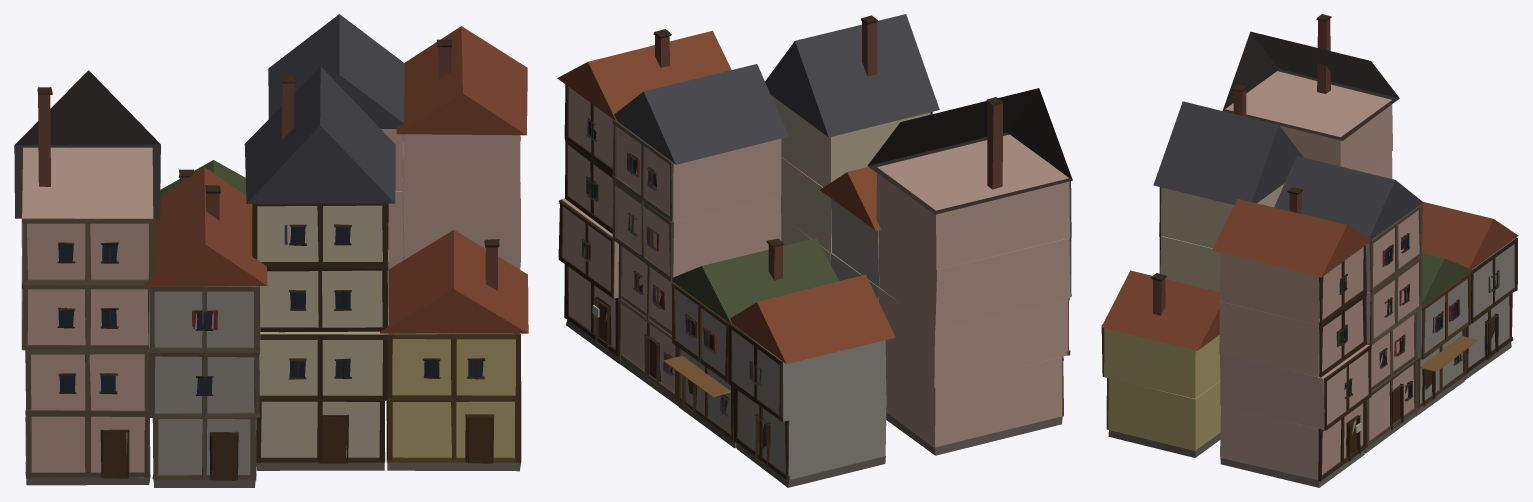
Rendered from modular_house_blocks_one.glb.
The picture shows the model from 3 angles, left to right: view 1: azimuth 30°, elevation 25°; view 2: azimuth 150°, elevation 25°; view 3: azimuth 270°, elevation 25°; orthographic projection. The views are drawn at different scales.
Parts seen in each view (by area): view 1: CityBlock_Var03; view 2: CityBlock_Var03; view 3: CityBlock_Var03.
Boxes of the visible parts, x1=… form: CityBlock_Var03: x1=14, y1=14, x2=528, y2=487; CityBlock_Var03: x1=557, y1=14, x2=1072, y2=487; CityBlock_Var03: x1=1101, y1=14, x2=1518, y2=487.
Bounding box in the file's own units: 25.91 × 16.92 × 21.93.
